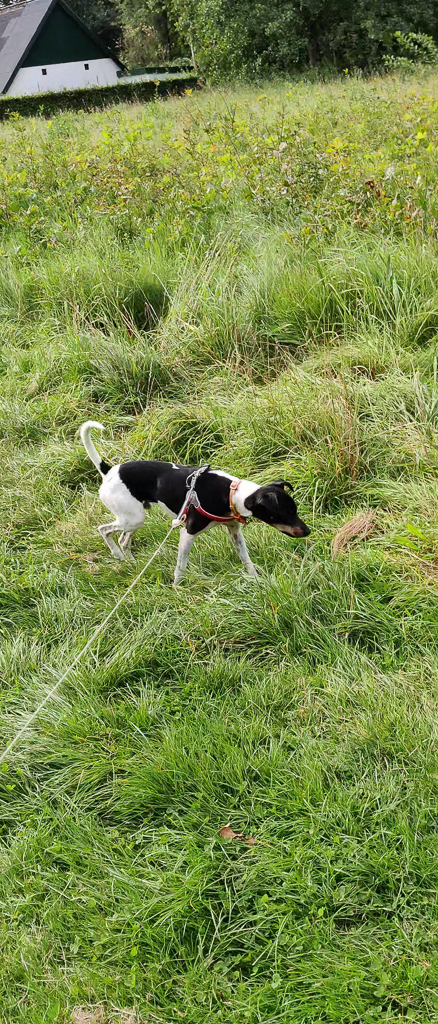Dog: (70, 410, 325, 594)
